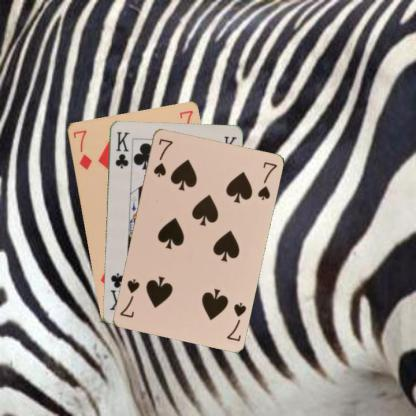7d: (70, 127, 93, 171)
7s: (224, 299, 247, 342), (151, 136, 174, 178)
Kc: (113, 129, 130, 170)
